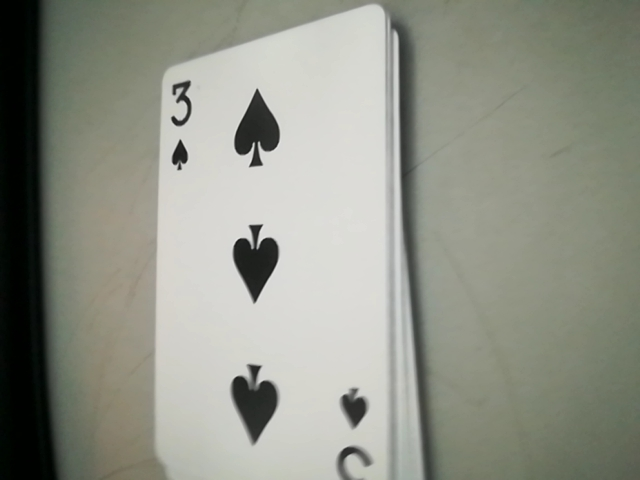ht 3: (157, 69, 204, 181)
